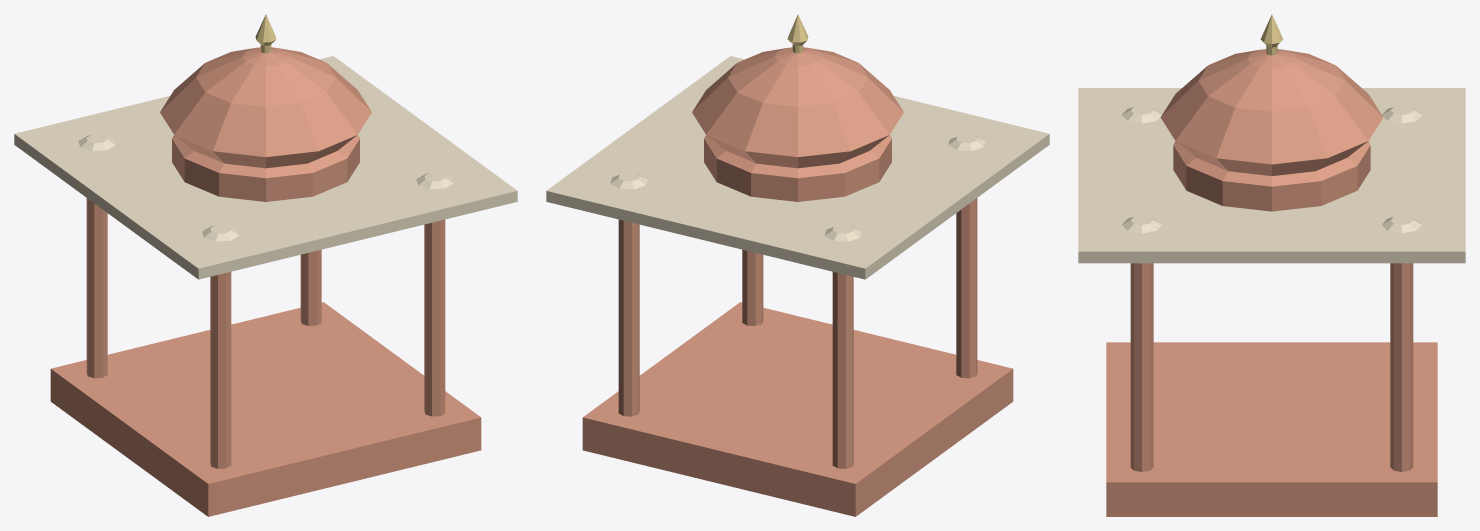
The model's file is kit_chhatri.glb.
The picture shows the model from 3 angles, left to right: view 1: azimuth 30°, elevation 25°; view 2: azimuth 150°, elevation 25°; view 3: azimuth 270°, elevation 25°; orthographic projection. The views are drawn at different scales.
Parts seen in each view (by area): view 1: kit_chhatri; view 2: kit_chhatri; view 3: kit_chhatri.
Part boxes in pixels (x1,y1,x2,y2): kit_chhatri: (14,14,517,516); kit_chhatri: (546,14,1049,516); kit_chhatri: (1078,14,1465,516).
Size of the model in its own units: 3.04 by 3.75 by 3.04.
